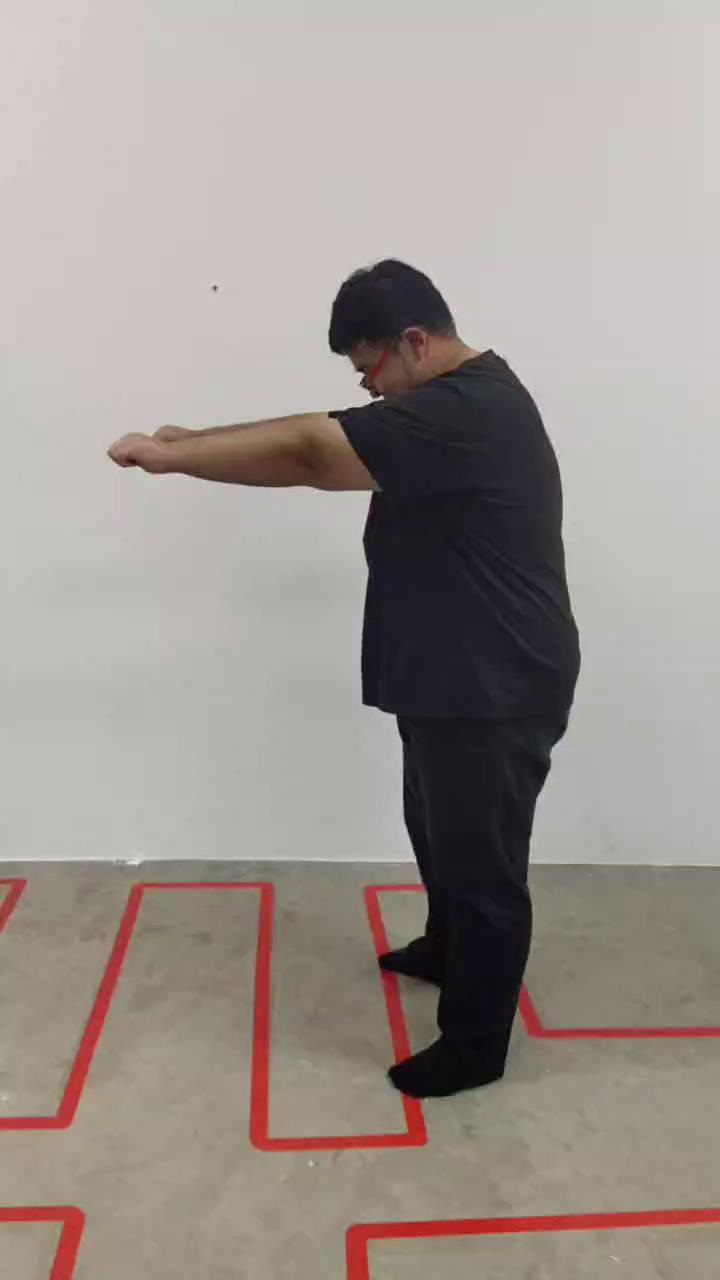squat up: (110, 256, 580, 1101)
